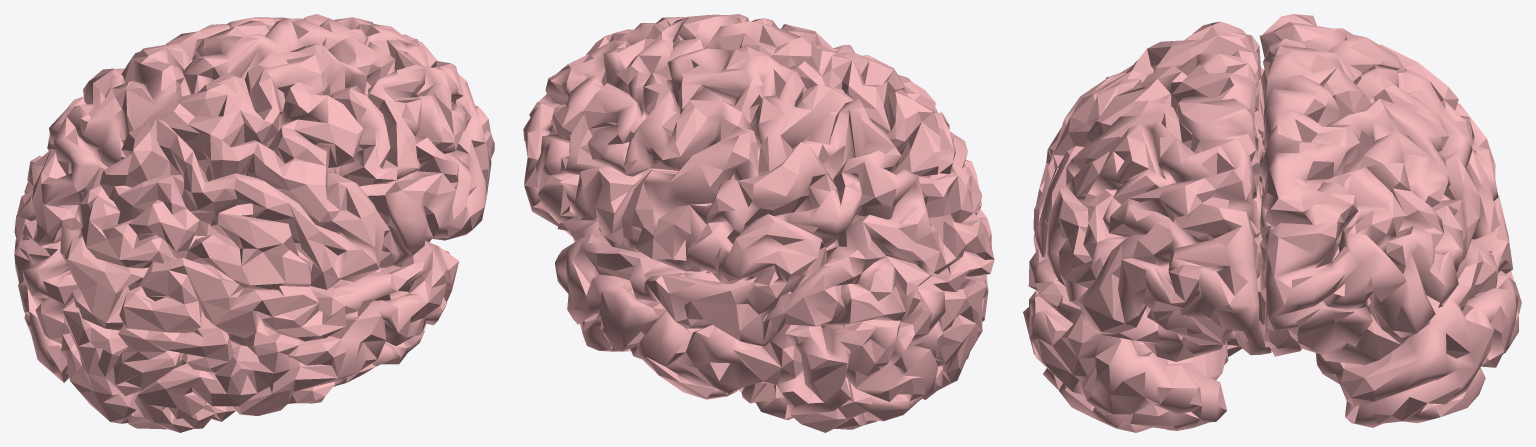
Rendered from brain.glb.
3 renders of one model, left to right at view 1: azimuth 30°, elevation 25°; view 2: azimuth 150°, elevation 25°; view 3: azimuth 270°, elevation 25°, orthographic. The views are drawn at different scales.
Visible parts, largest first — view 1: 3Dmari_1_fracturepart41_2, 3Dmari_1_fracturepart72, 3Dmari_1_fracturepart16, 3Dmari_1_fracturepart55, 3Dmari_1_fracturepart73, 3Dmari_1_fracturepart69, 3Dmari_1_fracturepart87, 3Dmari_1_fracturepart37, 3Dmari_1_fracturepart50, 3Dmari_1_fracturepart82, 3Dmari_1_fracturepart64_2, 3Dmari_1_fracturepart39_2 (+38 smaller); view 2: 3Dmari_1_fracturepart41_2, 3Dmari_1_fracturepart17, 3Dmari_1_fracturepart34, 3Dmari_1_fracturepart88, 3Dmari_1_fracturepart16, 3Dmari_1_fracturepart26, 3Dmari_1_fracturepart38, 3Dmari_1_fracturepart12, 3Dmari_1_fracturepart20_2, 3Dmari_1_fracturepart86, 3Dmari_1_fracturepart29, 3Dmari_1_fracturepart24 (+33 smaller); view 3: 3Dmari_1_fracturepart41_2, 3Dmari_1_fracturepart73, 3Dmari_1_fracturepart12, 3Dmari_1_fracturepart82, 3Dmari_1_fracturepart56, 3Dmari_1_fracturepart80, 3Dmari_1_fracturepart16, 3Dmari_1_fracturepart5, 3Dmari_1_fracturepart65, 3Dmari_1_fracturepart5_2, 3Dmari_1_fracturepart80_2, 3Dmari_1_fracturepart52 (+33 smaller).
Part boxes in pixels (x1=…): 3Dmari_1_fracturepart41_2: x1=14, y1=15, x2=437, y2=382; 3Dmari_1_fracturepart72: x1=122, y1=119, x2=245, y2=279; 3Dmari_1_fracturepart16: x1=176, y1=60, x2=351, y2=148; 3Dmari_1_fracturepart55: x1=181, y1=280, x2=301, y2=384; 3Dmari_1_fracturepart73: x1=409, y1=84, x2=494, y2=224; 3Dmari_1_fracturepart69: x1=327, y1=142, x2=439, y2=263; 3Dmari_1_fracturepart87: x1=229, y1=115, x2=371, y2=213; 3Dmari_1_fracturepart37: x1=83, y1=295, x2=194, y2=398; 3Dmari_1_fracturepart50: x1=199, y1=162, x2=309, y2=288; 3Dmari_1_fracturepart82: x1=370, y1=242, x2=447, y2=364; 3Dmari_1_fracturepart64_2: x1=293, y1=205, x2=395, y2=289; 3Dmari_1_fracturepart39_2: x1=65, y1=231, x2=150, y2=329; 3Dmari_1_fracturepart41_2: x1=523, y1=38, x2=945, y2=429; 3Dmari_1_fracturepart17: x1=883, y1=92, x2=973, y2=259; 3Dmari_1_fracturepart34: x1=665, y1=138, x2=762, y2=279; 3Dmari_1_fracturepart88: x1=828, y1=269, x2=913, y2=393; 3Dmari_1_fracturepart16: x1=762, y1=23, x2=893, y2=87; 3Dmari_1_fracturepart26: x1=725, y1=273, x2=835, y2=365; 3Dmari_1_fracturepart38: x1=617, y1=89, x2=718, y2=190; 3Dmari_1_fracturepart12: x1=523, y1=111, x2=596, y2=221; 3Dmari_1_fracturepart20_2: x1=821, y1=102, x2=910, y2=218; 3Dmari_1_fracturepart86: x1=568, y1=87, x2=659, y2=203; 3Dmari_1_fracturepart29: x1=927, y1=274, x2=980, y2=367; 3Dmari_1_fracturepart24: x1=750, y1=347, x2=854, y2=393; 3Dmari_1_fracturepart41_2: x1=1260, y1=14, x2=1521, y2=423; 3Dmari_1_fracturepart73: x1=1065, y1=157, x2=1204, y2=320; 3Dmari_1_fracturepart12: x1=1306, y1=221, x2=1463, y2=329; 3Dmari_1_fracturepart82: x1=1029, y1=286, x2=1126, y2=429; 3Dmari_1_fracturepart56: x1=1128, y1=124, x2=1249, y2=220; 3Dmari_1_fracturepart80: x1=1086, y1=327, x2=1193, y2=414; 3Dmari_1_fracturepart16: x1=1117, y1=26, x2=1253, y2=113; 3Dmari_1_fracturepart5: x1=1196, y1=189, x2=1265, y2=332; 3Dmari_1_fracturepart65: x1=1193, y1=150, x2=1255, y2=255; 3Dmari_1_fracturepart5_2: x1=1260, y1=188, x2=1351, y2=333; 3Dmari_1_fracturepart80_2: x1=1068, y1=297, x2=1207, y2=361; 3Dmari_1_fracturepart52: x1=1127, y1=76, x2=1237, y2=153.
Size of the model in its own units: 3.13 by 2.37 by 2.76.
